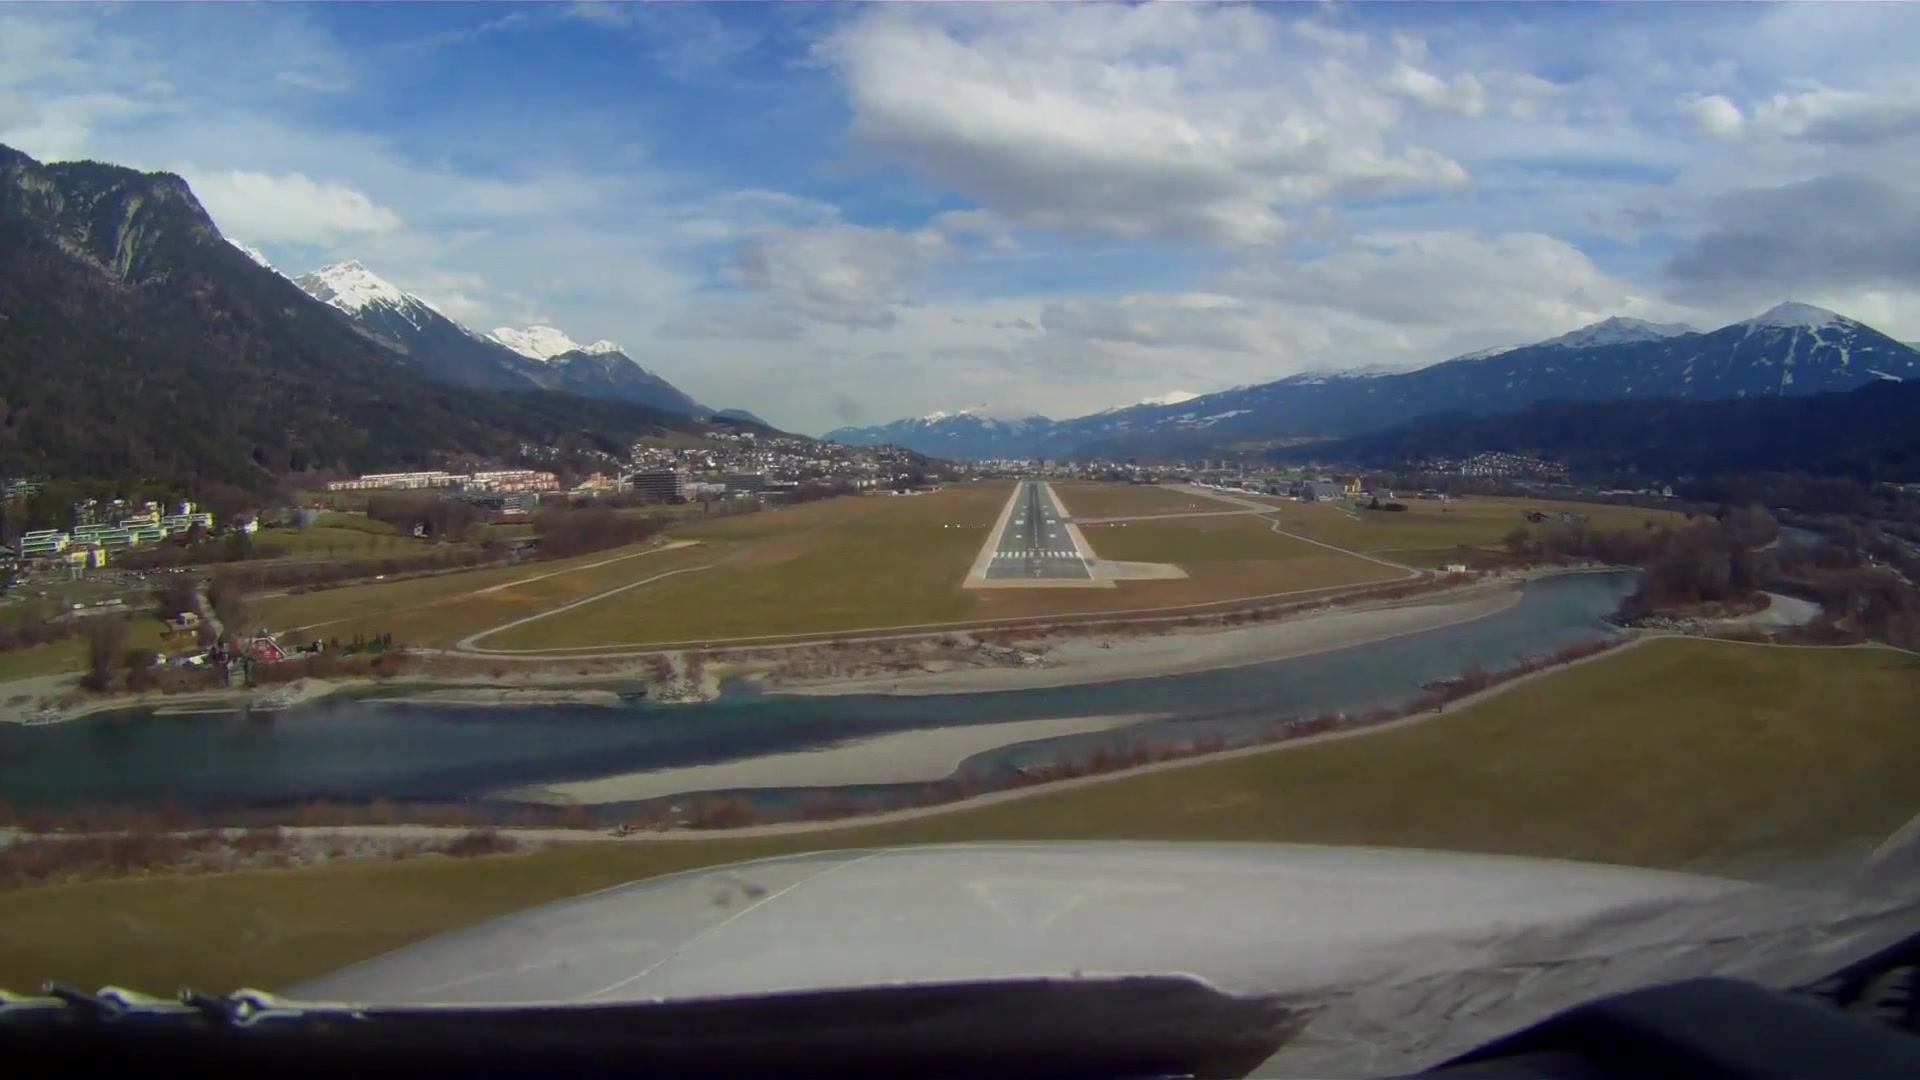entrance: (990, 549, 1083, 560)
runway: (988, 483, 1085, 580)
